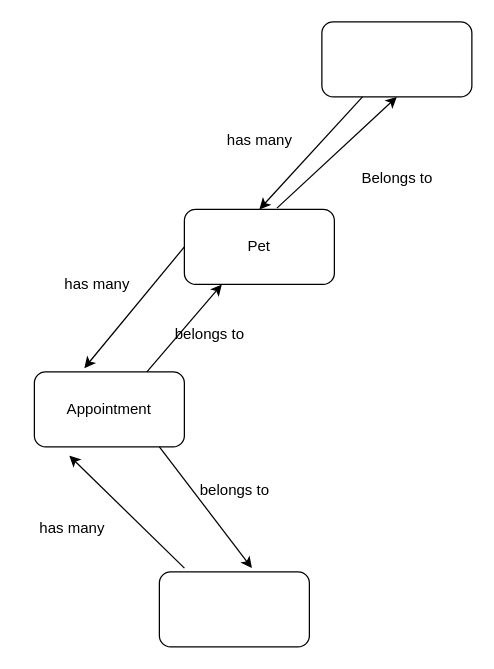
Some shapes in this 494 by 669 pixel diagram are drawn without their labels. Each missing label, with the centre of its shape:
Owner: [396,59]
Procedure: [233,609]
